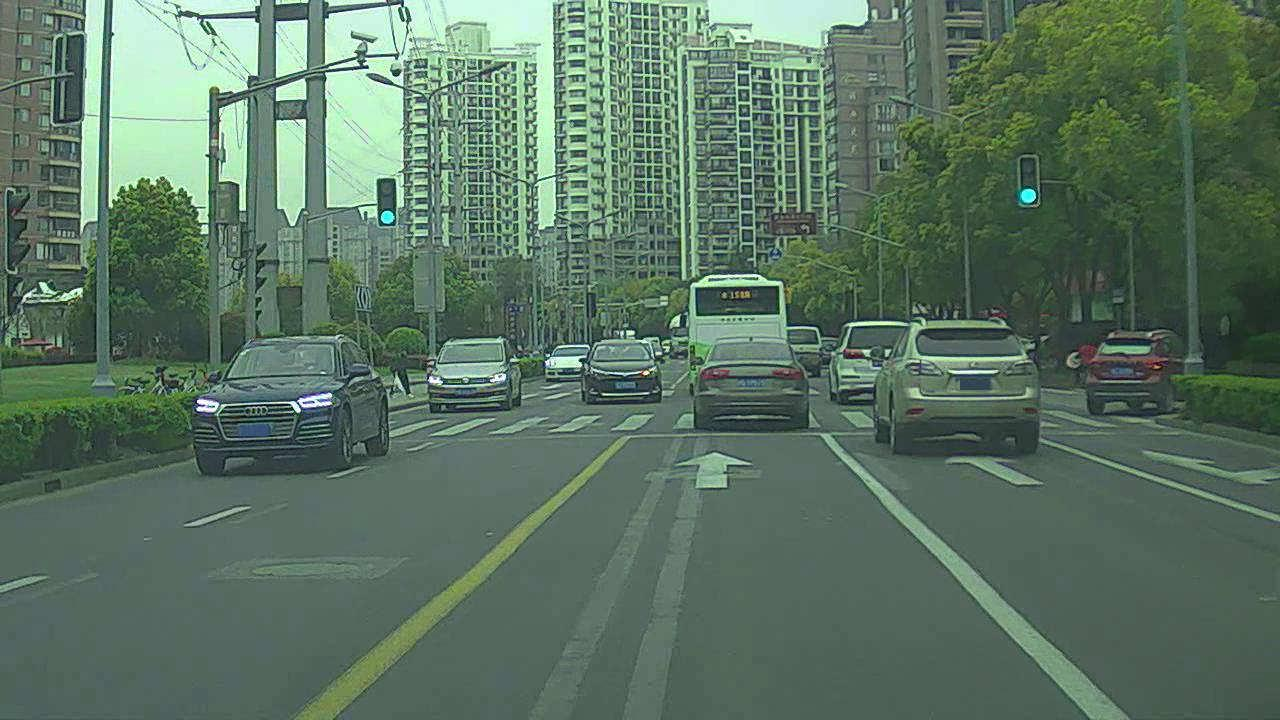traffic_light: (1017, 156, 1044, 210), (375, 177, 402, 230)
